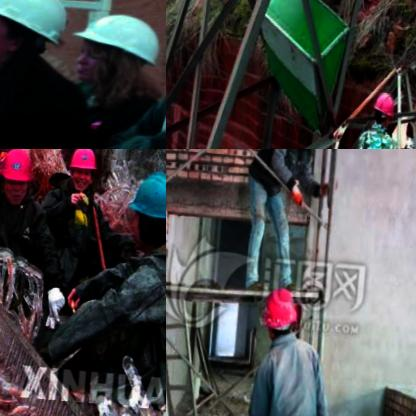helmet: (57, 0, 166, 108), (0, 0, 81, 92), (124, 164, 166, 249), (260, 286, 301, 344), (0, 149, 37, 207), (65, 149, 100, 190), (372, 90, 401, 128)
